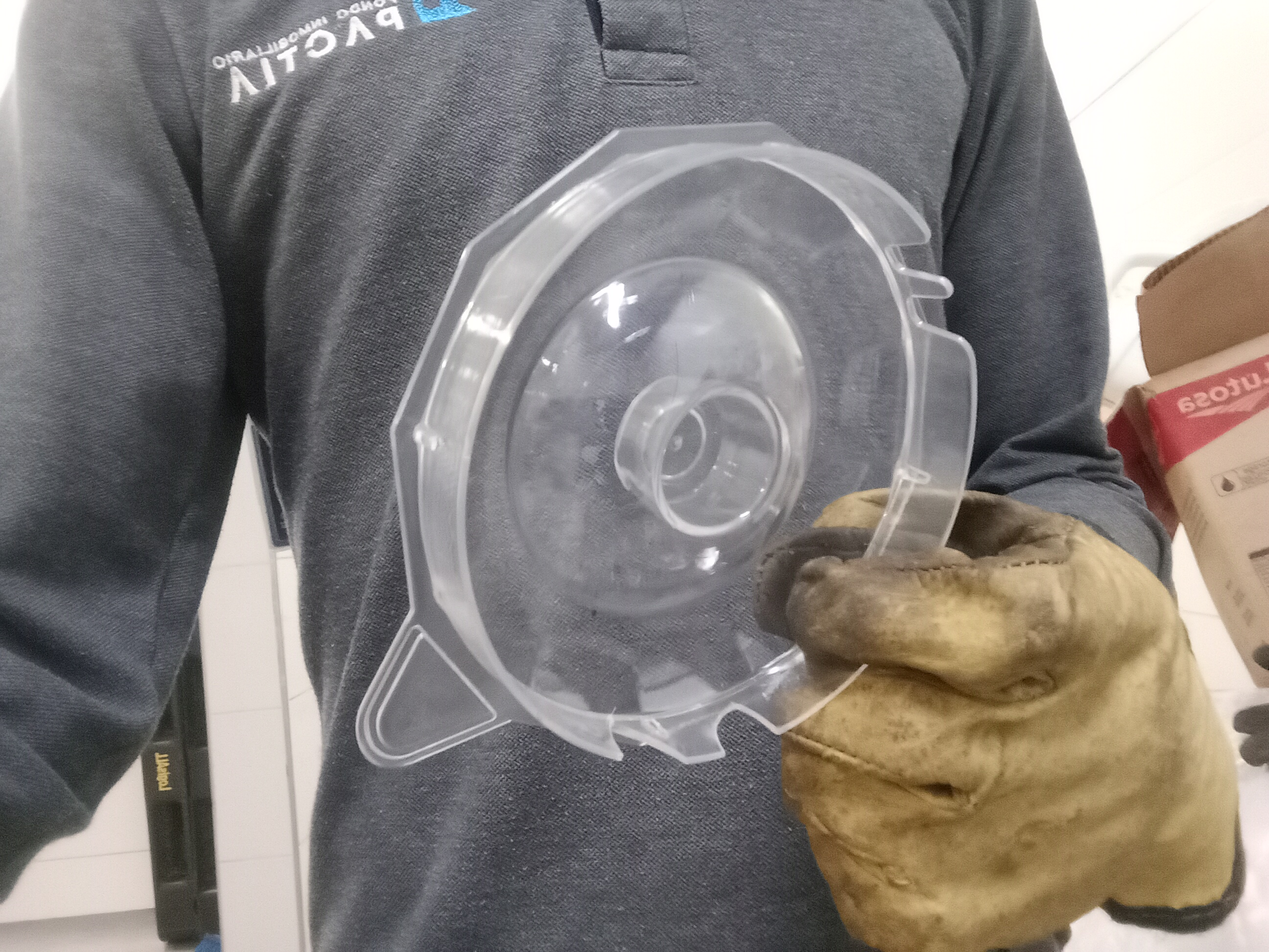Plastico: (354, 121, 978, 766)
